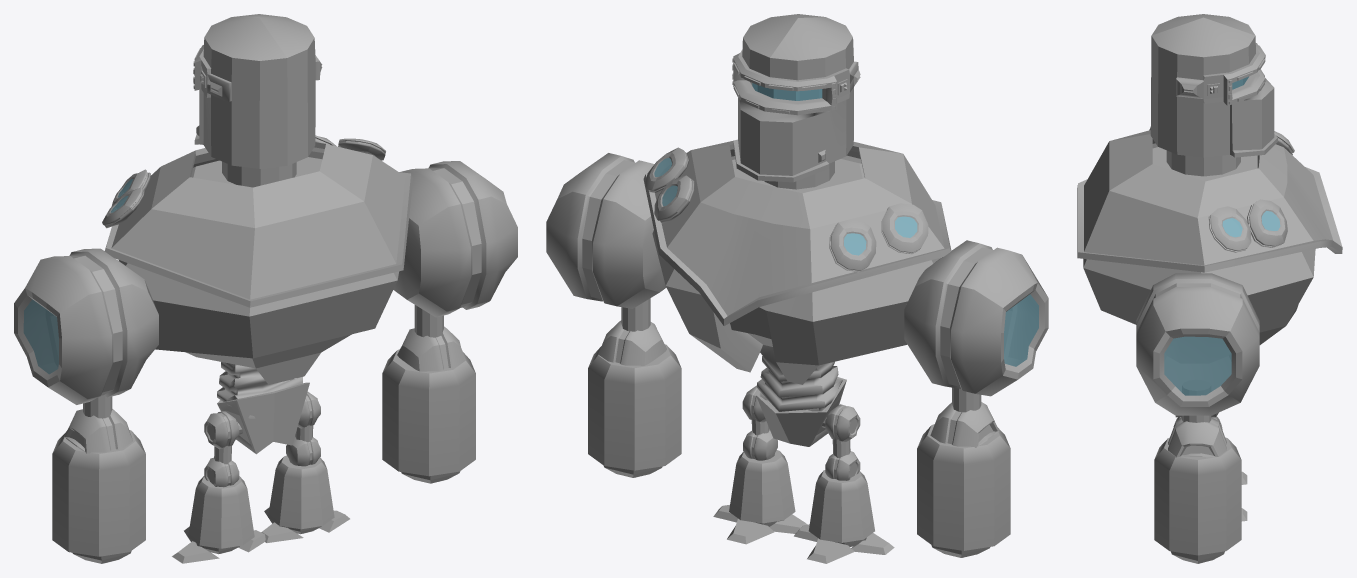
Rendered from robot-2.fbx.
3 renders of one model, left to right at view 1: azimuth 30°, elevation 25°; view 2: azimuth 150°, elevation 25°; view 3: azimuth 270°, elevation 25°, orthographic. The views are drawn at different scales.
Visible parts, largest first — view 1: Neck_guard, pCube40, Helmet, torso, pCube70, pCylinder7, pCylinder8, pCylinder10, pCylinder9, Waist2, pCube63, pCube72 (+7 smaller); view 2: Neck_guard, Helmet, torso, pCube40, pCube70, pCylinder7, pCylinder8, pCylinder10, pCylinder9, Toros_1, Waist2, pCube63 (+13 smaller); view 3: Neck_guard, Helmet, pCube70, torso, pCylinder7, pCube72, pCube82, pCube81, Neck, pCylinder2, pSphere2.
Boxes of the visible parts, x1,y1,x2,y2 form: Neck_guard: (104, 142, 413, 307); pCube40: (14, 248, 158, 404); Helmet: (193, 14, 322, 168); torso: (118, 157, 398, 384); pCube70: (393, 161, 517, 317); pCylinder7: (382, 349, 475, 476); pCylinder8: (52, 430, 145, 556); pCylinder10: (268, 455, 334, 529); pCylinder9: (188, 476, 254, 548); Waist2: (217, 382, 309, 454); pCube63: (64, 409, 132, 453); pCube72: (397, 326, 466, 371); Neck_guard: (643, 140, 951, 325); Helmet: (732, 14, 860, 182); torso: (652, 155, 941, 384); pCube40: (904, 240, 1048, 396); pCube70: (546, 153, 666, 308); pCylinder7: (588, 344, 681, 470); pCylinder8: (917, 424, 1010, 550); pCylinder10: (729, 450, 795, 523); pCylinder9: (808, 470, 874, 542); Toros_1: (757, 345, 842, 411); Waist2: (756, 377, 846, 446); pCube63: (930, 402, 999, 447); Neck_guard: (1077, 130, 1342, 272); Helmet: (1150, 14, 1277, 157); pCube70: (1136, 273, 1259, 415); torso: (1083, 143, 1315, 344); pCylinder7: (1154, 437, 1241, 555); pCube72: (1168, 417, 1226, 457); pCube82: (1247, 199, 1287, 247); pCube81: (1208, 206, 1251, 252); Neck: (1166, 150, 1240, 176); pCylinder2: (1182, 380, 1211, 422); pSphere2: (1171, 551, 1224, 563).
Size of the model in its own units: 14.12 by 15.37 by 7.63.
